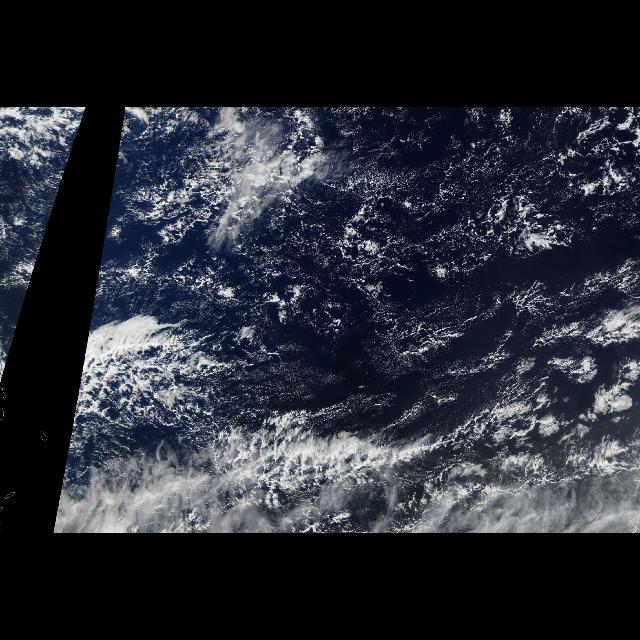Fish: (231, 432, 637, 503)
Gravel: (271, 113, 524, 364)
